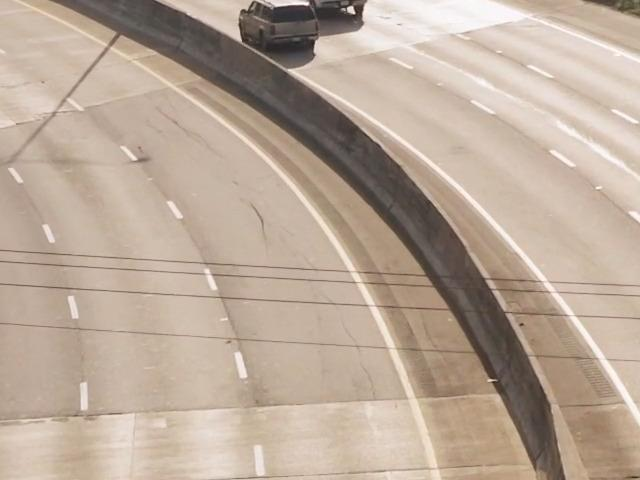car: (233, 0, 326, 66), (283, 0, 373, 30)
